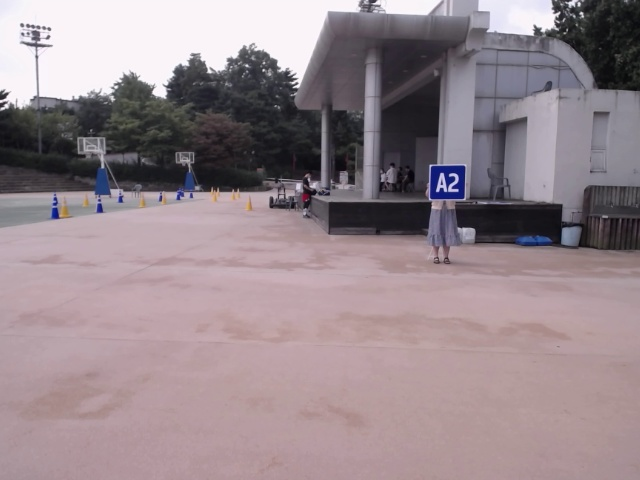delivery_a2: (429, 164, 466, 201)
